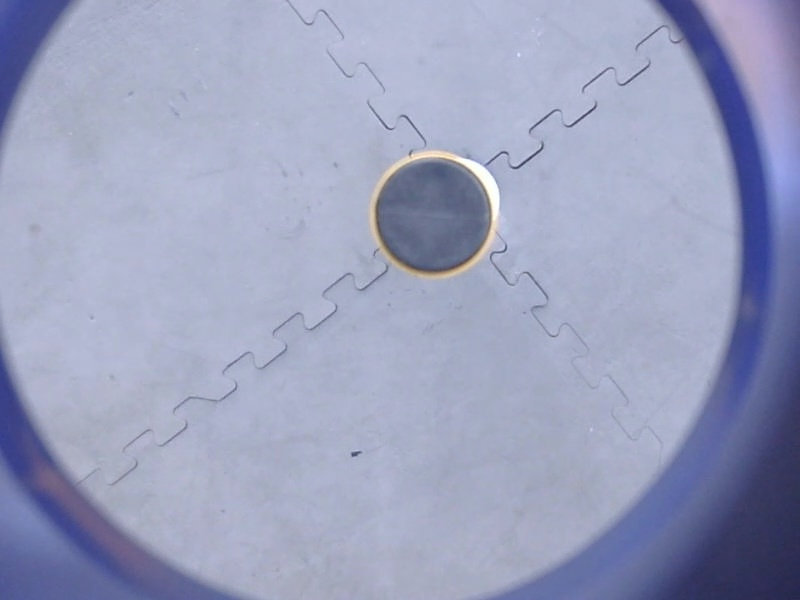tip: (361, 141, 503, 286)
